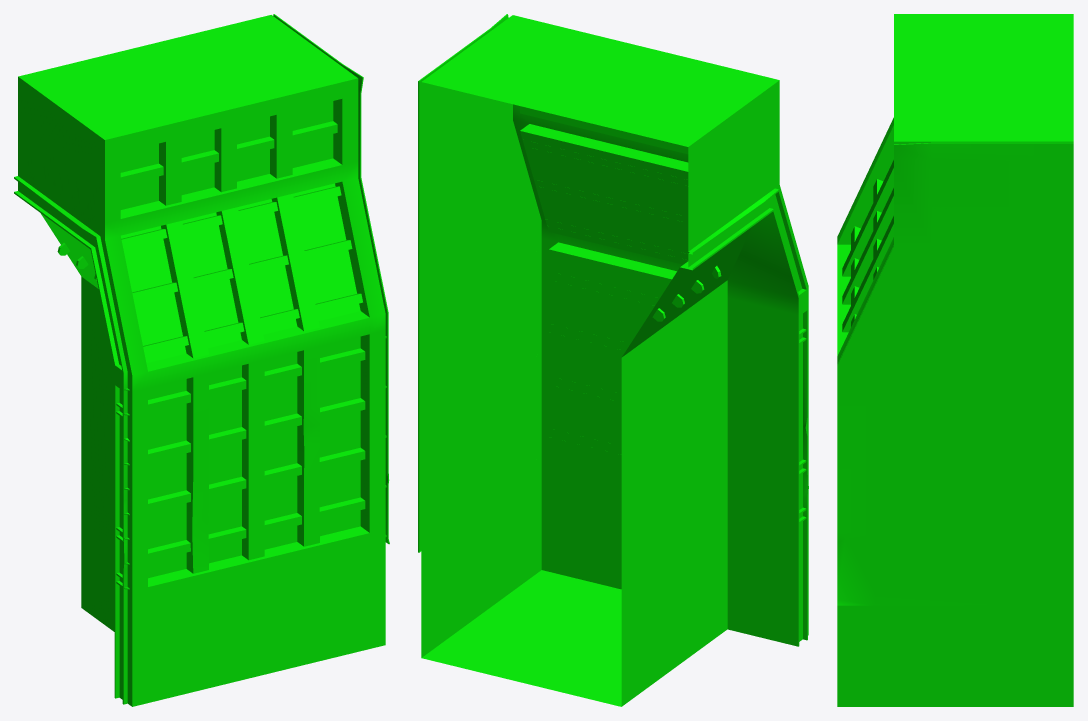
The model's file is Bof_PartRight.fbx.
The picture shows the model from 3 angles, left to right: view 1: azimuth 30°, elevation 25°; view 2: azimuth 150°, elevation 25°; view 3: azimuth 270°, elevation 25°; orthographic projection. The views are drawn at different scales.
Parts seen in each view (by area): view 1: Bof_PartRight; view 2: Bof_PartRight; view 3: Bof_PartRight.
Boxes of the visible parts, <box> form: Bof_PartRight: <box>14,14,389,706</box>; Bof_PartRight: <box>418,14,808,706</box>; Bof_PartRight: <box>837,14,1073,706</box>.
Bounding box in the file's own units: 415 × 825 × 312.
